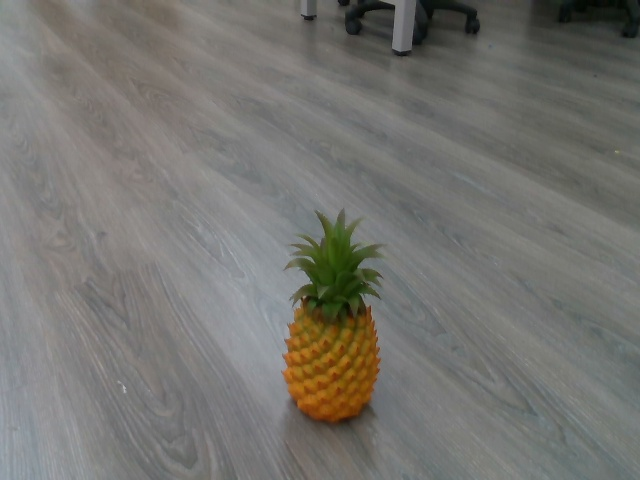pineapple: (275, 208, 391, 427)
